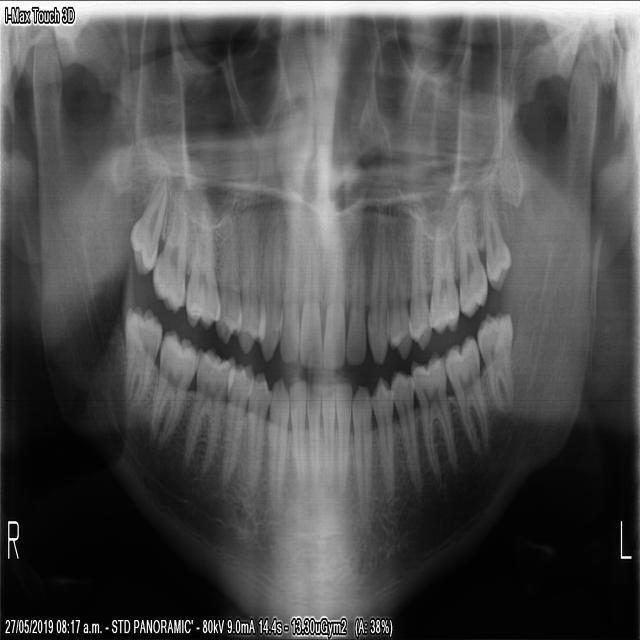LCD: (350, 382, 372, 534)
LCU: (364, 208, 388, 366)
LID: (333, 378, 351, 502), (318, 377, 335, 505)
LIU: (321, 221, 344, 373), (344, 221, 366, 366)
LMD: (408, 347, 459, 487), (441, 329, 488, 461), (475, 308, 513, 416)
LMU: (425, 220, 460, 339), (456, 207, 488, 316), (480, 191, 511, 292)
LPMD: (388, 369, 423, 502), (367, 374, 394, 509)
LPMU: (384, 219, 412, 360), (405, 216, 431, 354)
RCD: (266, 371, 289, 515)
RCU: (255, 210, 281, 362)
RID: (287, 376, 306, 499), (304, 379, 321, 501)
RIU: (277, 210, 301, 365), (298, 216, 321, 368)
RMD: (147, 324, 198, 454), (183, 344, 234, 470), (122, 300, 161, 410)
RMU: (183, 198, 221, 330), (151, 189, 189, 312), (127, 176, 169, 278)
RPMD: (220, 361, 254, 489), (244, 370, 270, 497)
RPMU: (233, 218, 265, 354), (212, 204, 242, 347)
